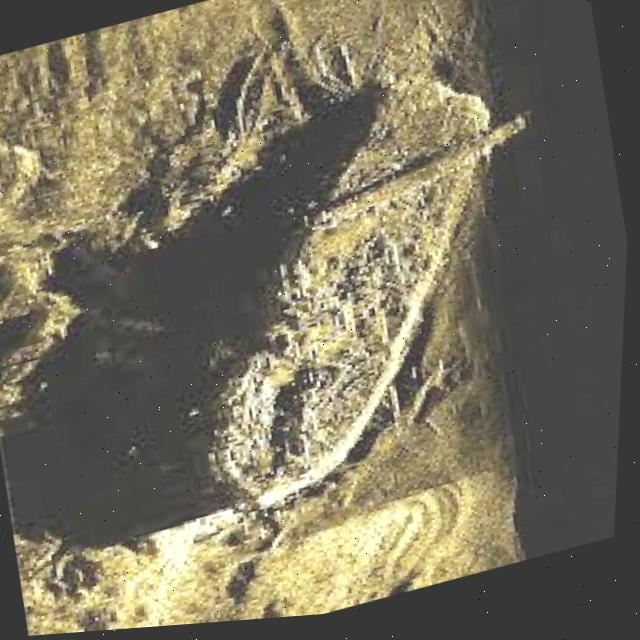shipwreck: (142, 51, 604, 547)
